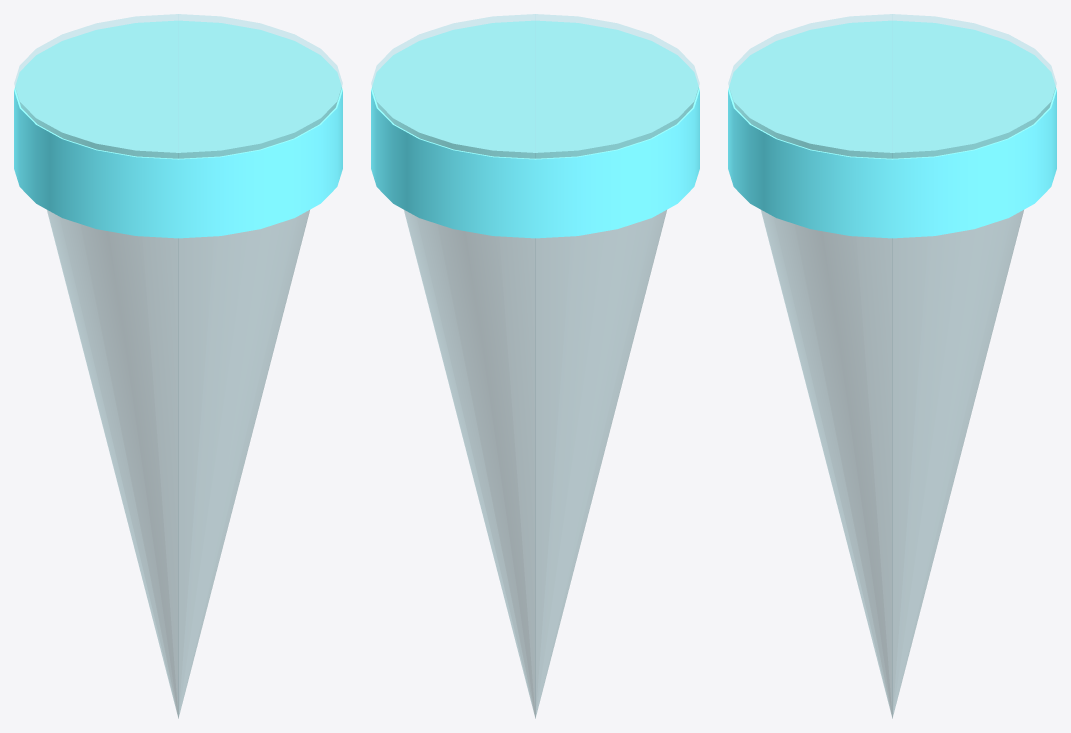
Rendered from pipette-tip.glb.
The picture shows the model from 3 angles, left to right: view 1: azimuth 30°, elevation 25°; view 2: azimuth 150°, elevation 25°; view 3: azimuth 270°, elevation 25°; orthographic projection.
Visible parts, largest first — view 1: sterile_translucent_pipette_tip, tip_collar; view 2: sterile_translucent_pipette_tip, tip_collar; view 3: sterile_translucent_pipette_tip, tip_collar.
Part boxes in pixels (x1=…): sterile_translucent_pipette_tip: x1=14, y1=14, x2=342, y2=718; tip_collar: x1=14, y1=20, x2=342, y2=238; sterile_translucent_pipette_tip: x1=371, y1=14, x2=699, y2=718; tip_collar: x1=371, y1=20, x2=699, y2=238; sterile_translucent_pipette_tip: x1=728, y1=14, x2=1056, y2=718; tip_collar: x1=728, y1=20, x2=1056, y2=238.
Size of the model in its own units: 0.68 by 1.45 by 0.68.
